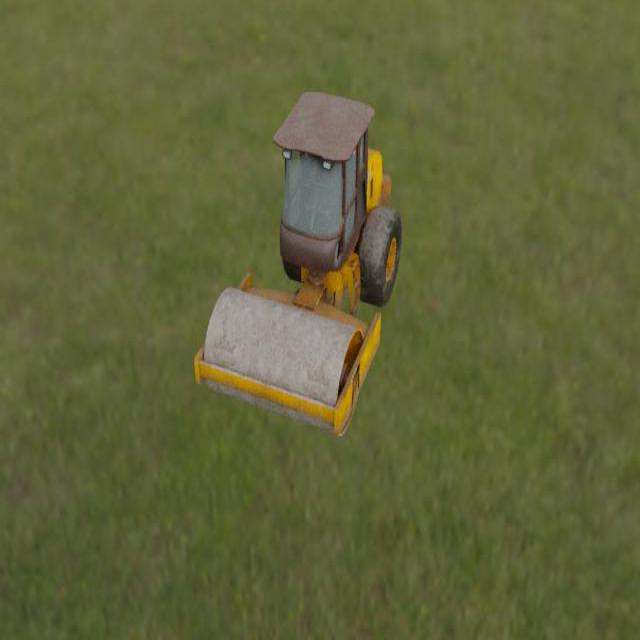Roller: (194, 91, 402, 436)
